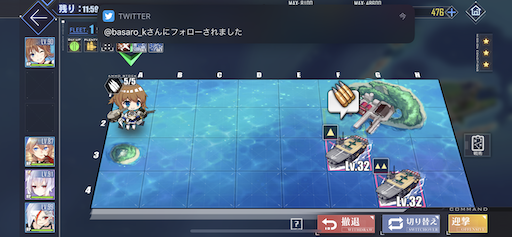lv1: (321, 122, 371, 171)
lv2: (369, 155, 428, 206)
